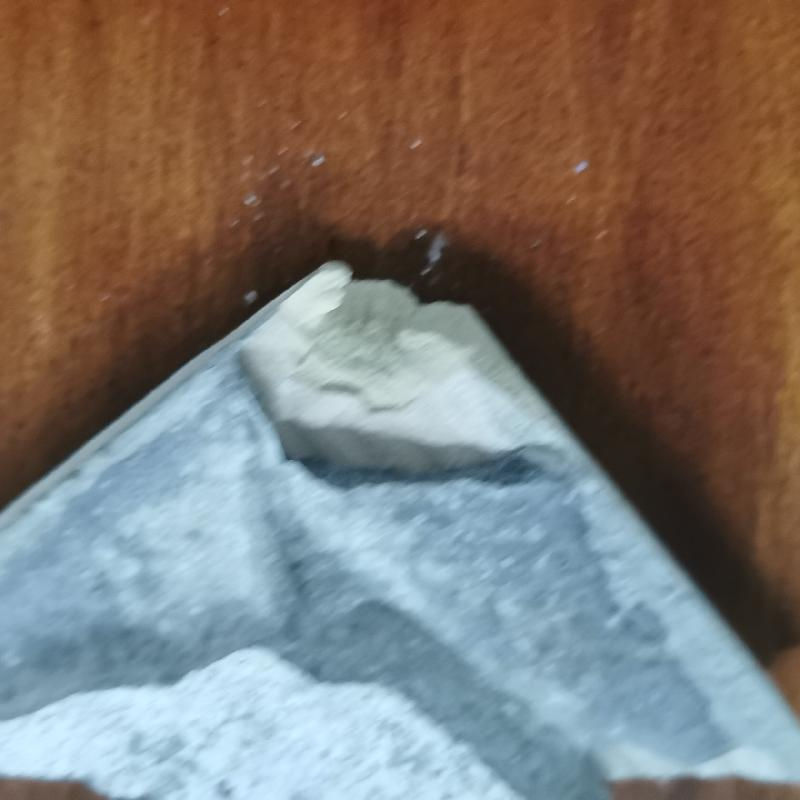tile: (0, 262, 799, 800)
